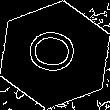O_E: (25, 30, 85, 80)
